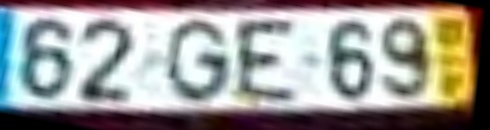2: (73, 17, 137, 110)
6: (16, 17, 77, 106), (325, 17, 376, 105)
9: (377, 15, 433, 103)
E: (232, 18, 299, 108)
G: (163, 19, 230, 107)
